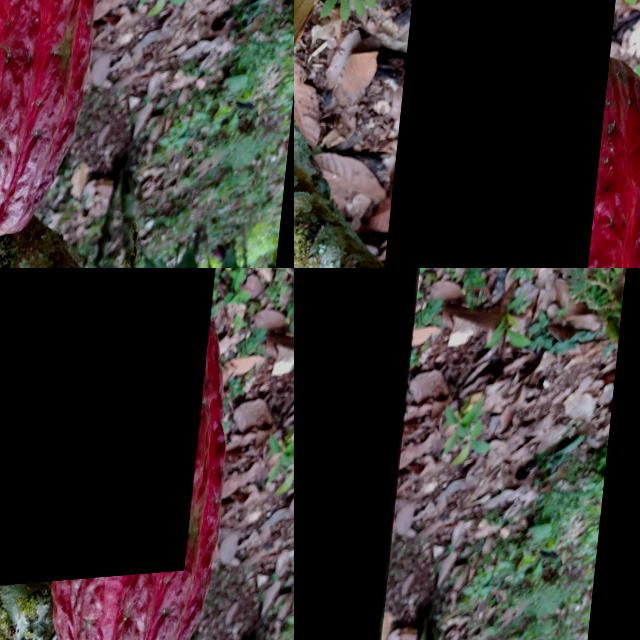Sana: (0, 268, 226, 593), (378, 0, 620, 268), (294, 268, 425, 640)
